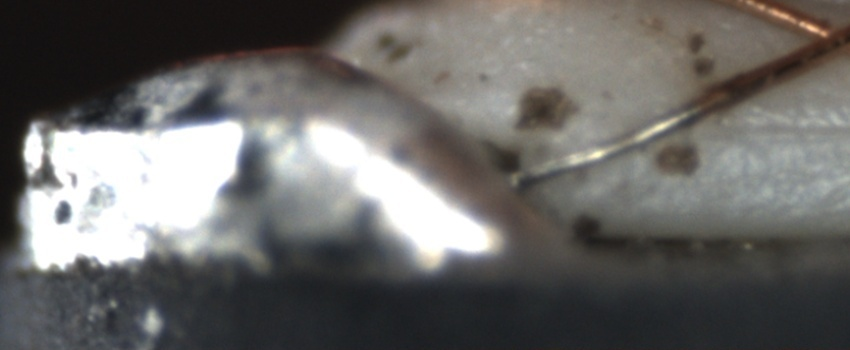CL: (777, 5, 849, 64)
DL: (692, 99, 849, 151)
TS: (511, 106, 703, 188)
TTCW: (511, 68, 762, 188)
